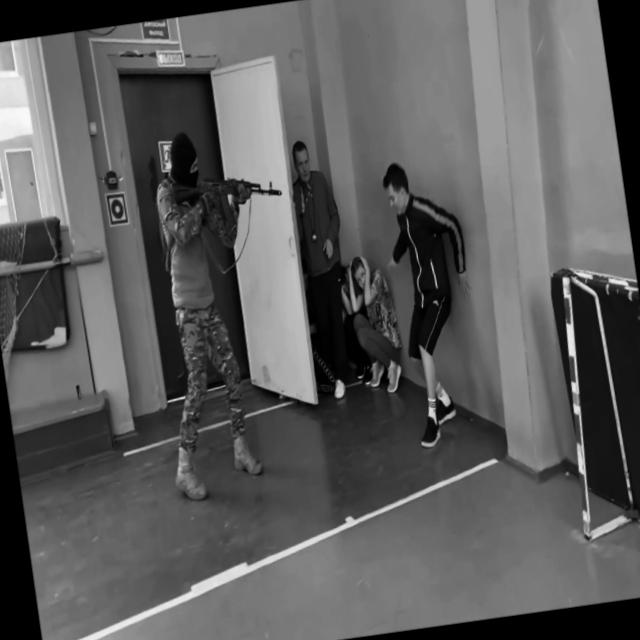gun: (170, 164, 288, 242)
person: (374, 152, 493, 452), (286, 136, 366, 405), (346, 248, 409, 397)
person with a gun: (128, 118, 324, 504)
